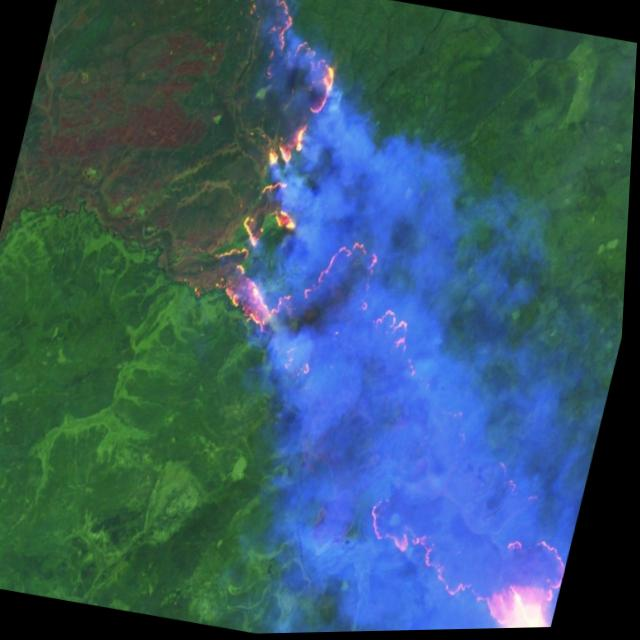fire: (99, 0, 640, 638)
